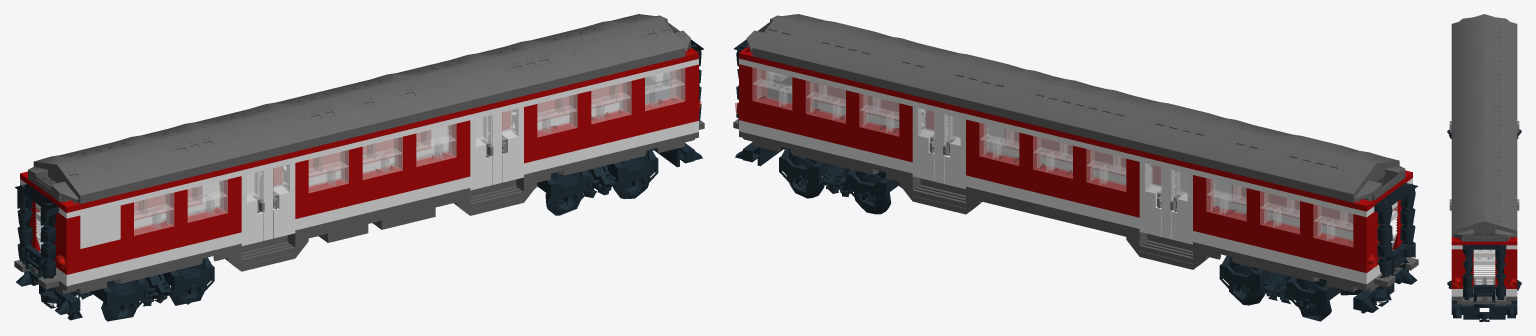
The model's file is n-wagen-coach.glb.
The picture shows the model from 3 angles, left to right: view 1: azimuth 30°, elevation 25°; view 2: azimuth 150°, elevation 25°; view 3: azimuth 270°, elevation 25°; orthographic projection. The views are drawn at different scales.
Size of the model in its own units: 0.392 by 0.0899 by 0.0546.
4 materials, 4 textured.
